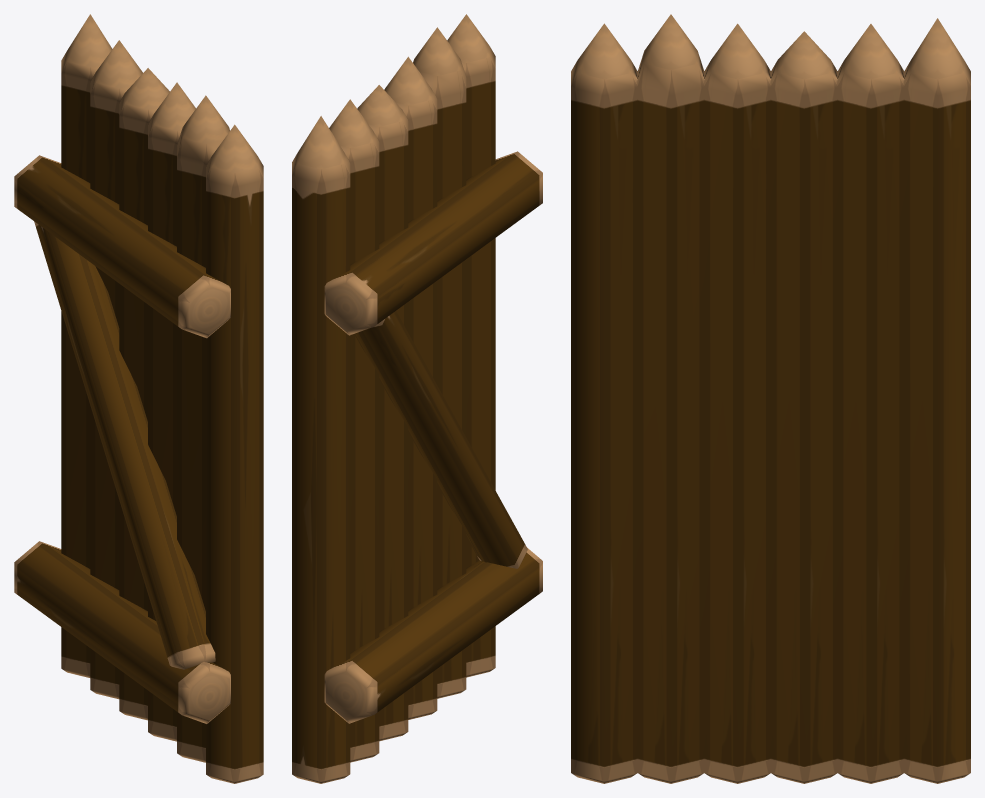
The model's file is mod_building_palisade_gate_L.fbx.
3 renders of one model, left to right at view 1: azimuth 30°, elevation 25°; view 2: azimuth 150°, elevation 25°; view 3: azimuth 270°, elevation 25°, orthographic. The views are drawn at different scales.
Visible parts, largest first — view 1: mod_building_palisade_gate_l1; view 2: mod_building_palisade_gate_l1; view 3: mod_building_palisade_gate_l1.
Part boxes in pixels (bbox=[...]): mod_building_palisade_gate_l1: bbox=[14, 14, 263, 783]; mod_building_palisade_gate_l1: bbox=[292, 14, 542, 783]; mod_building_palisade_gate_l1: bbox=[571, 14, 970, 783].
Bounding box in the file's own units: 62.28 × 418 × 200.
